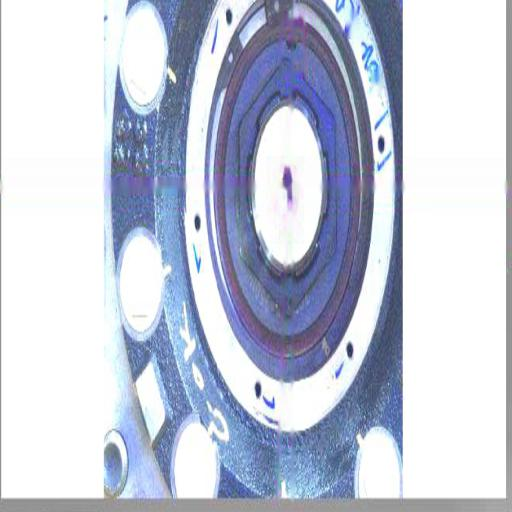center: (278, 166, 295, 194)
notch: (283, 35, 301, 60)
